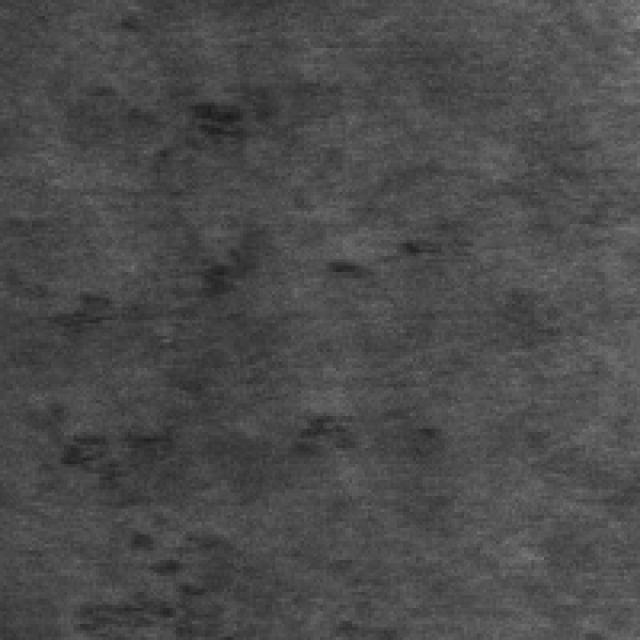rolled-in_scale: (51, 230, 262, 630), (61, 84, 262, 166)
